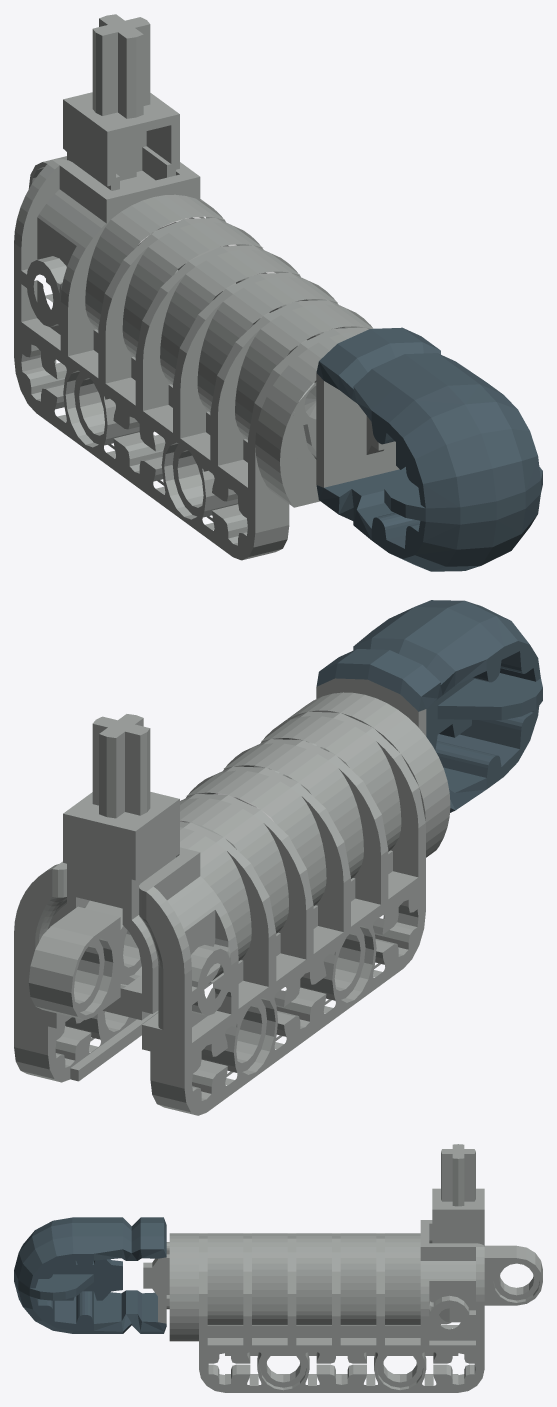
3 renders of one model, top to bottom at view 1: azimuth 30°, elevation 25°; view 2: azimuth 150°, elevation 25°; view 3: azimuth 270°, elevation 25°, orthographic. The views are drawn at different scales.
Visible parts, largest first — view 1: world; view 2: world; view 3: world.
Part boxes in pixels (bbox=[...]): world: bbox=[14, 14, 542, 571]; world: bbox=[14, 600, 542, 1115]; world: bbox=[14, 1144, 542, 1392].
Size of the model in its own units: 0.016 by 0.0328 by 0.0726.
